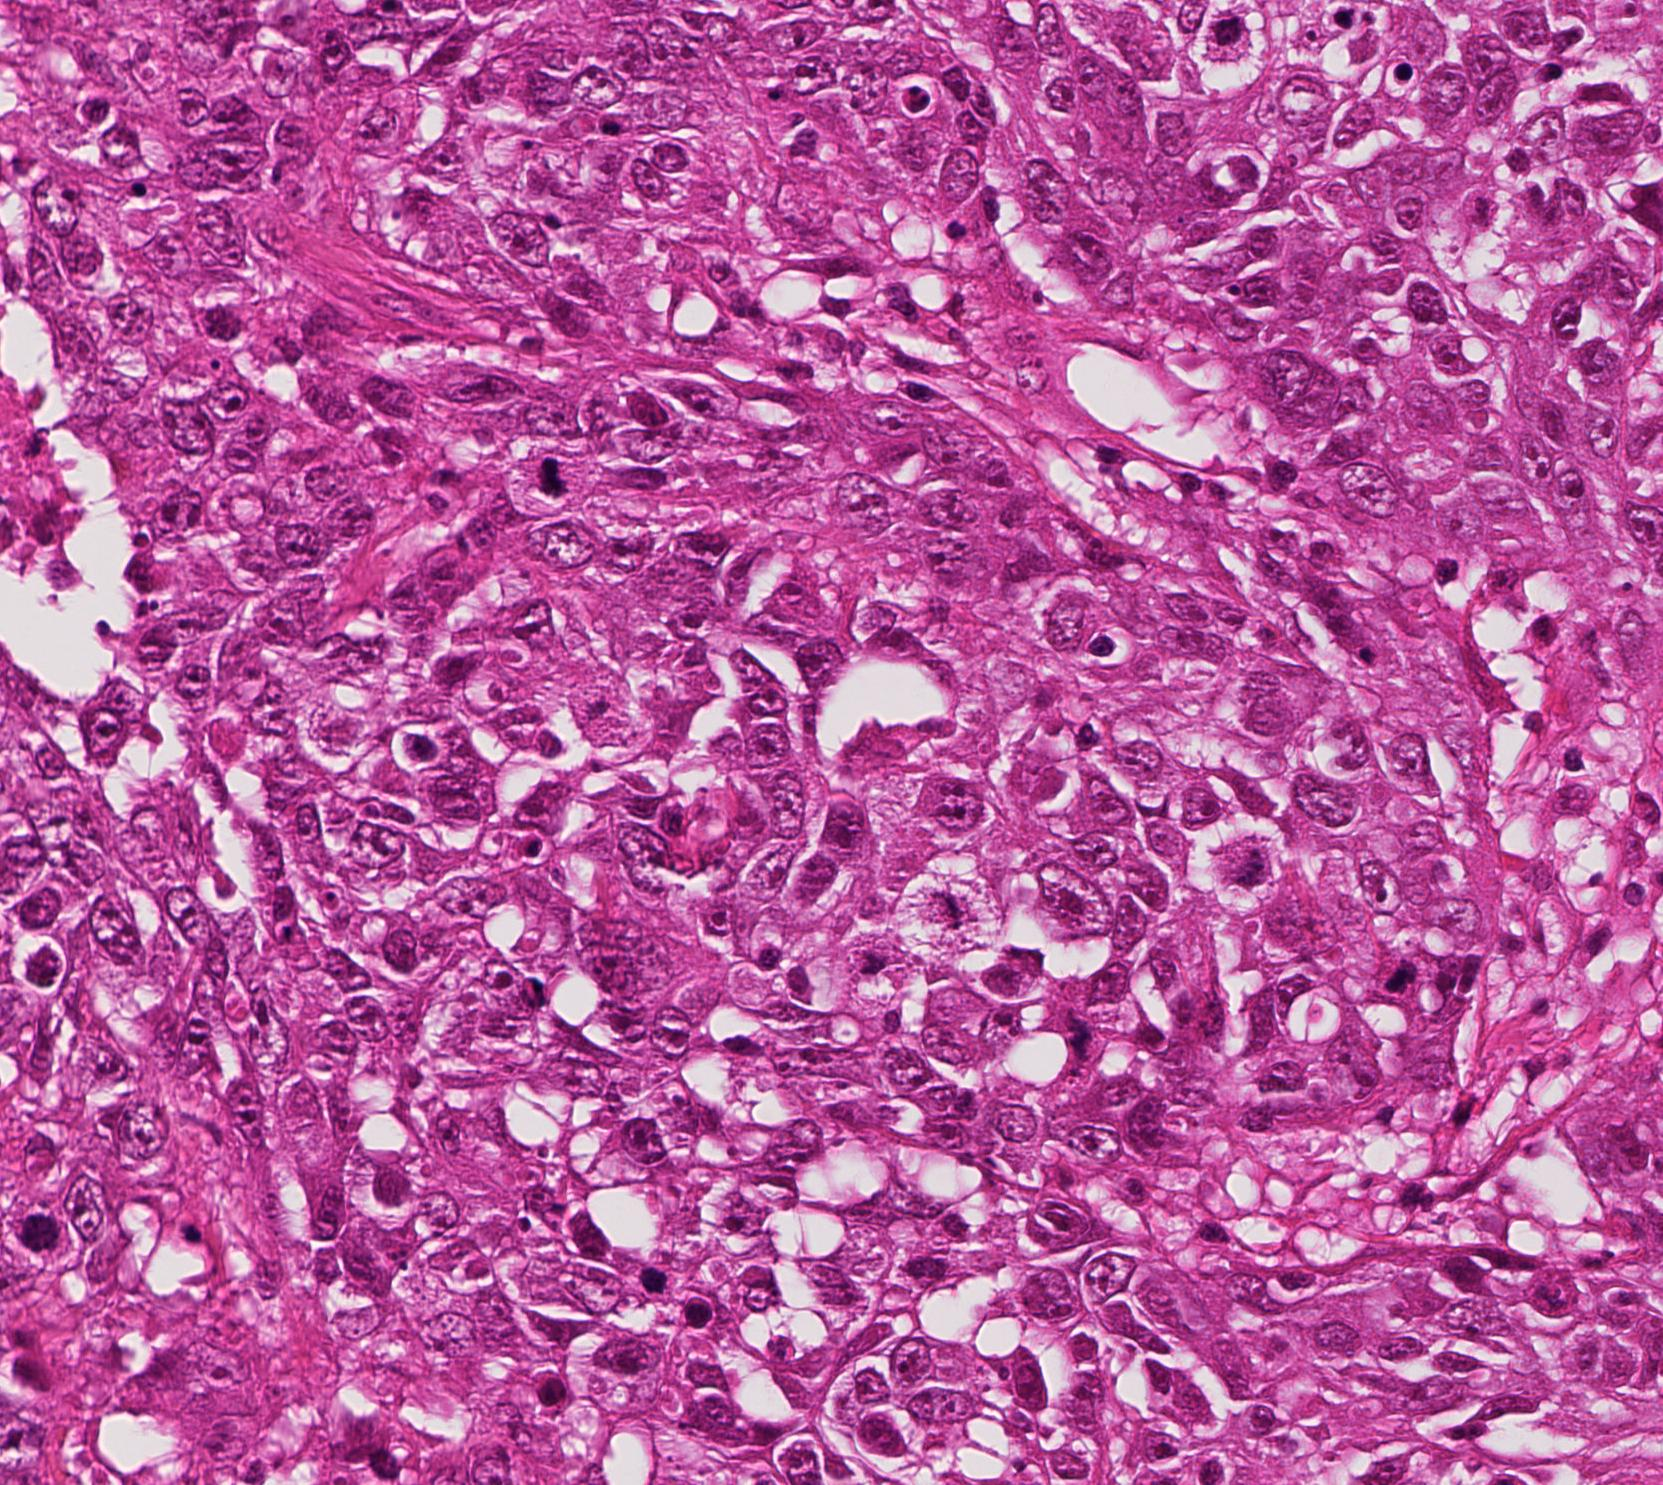mitosis: (17, 1195, 77, 1256), (1373, 942, 1434, 1002), (523, 444, 583, 505)
